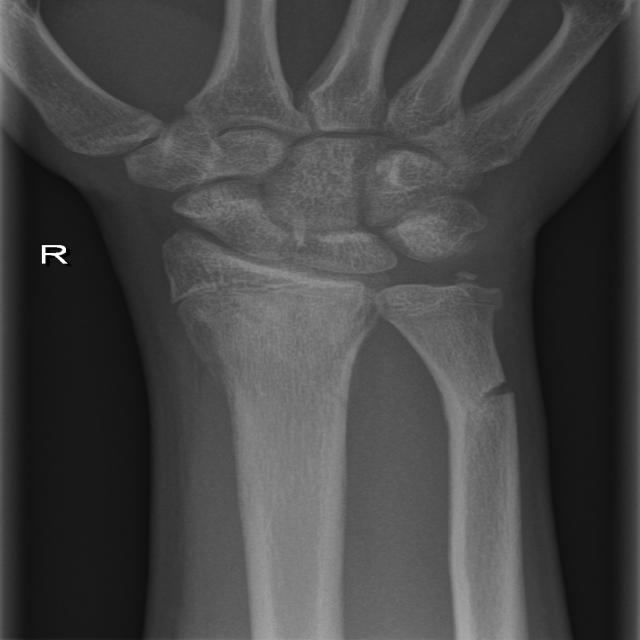ulna fracture: (455, 338, 541, 457)
